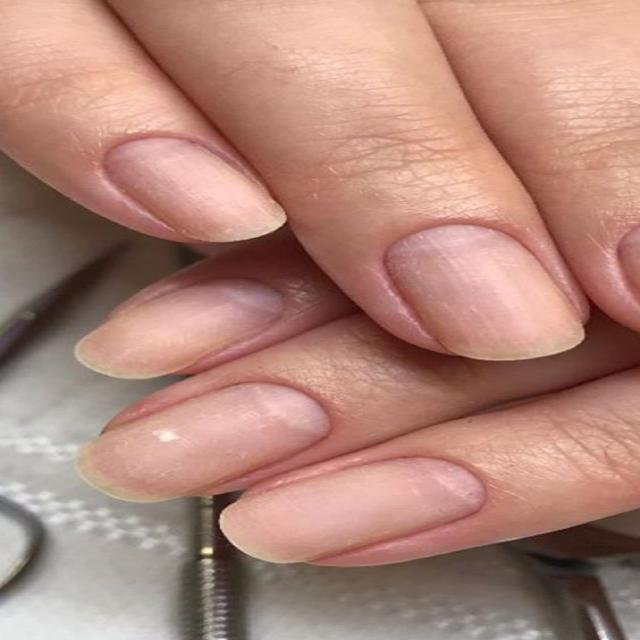Fingernail: (74, 381, 331, 504), (220, 456, 485, 563), (386, 223, 584, 361), (75, 277, 285, 379), (106, 136, 287, 243)
